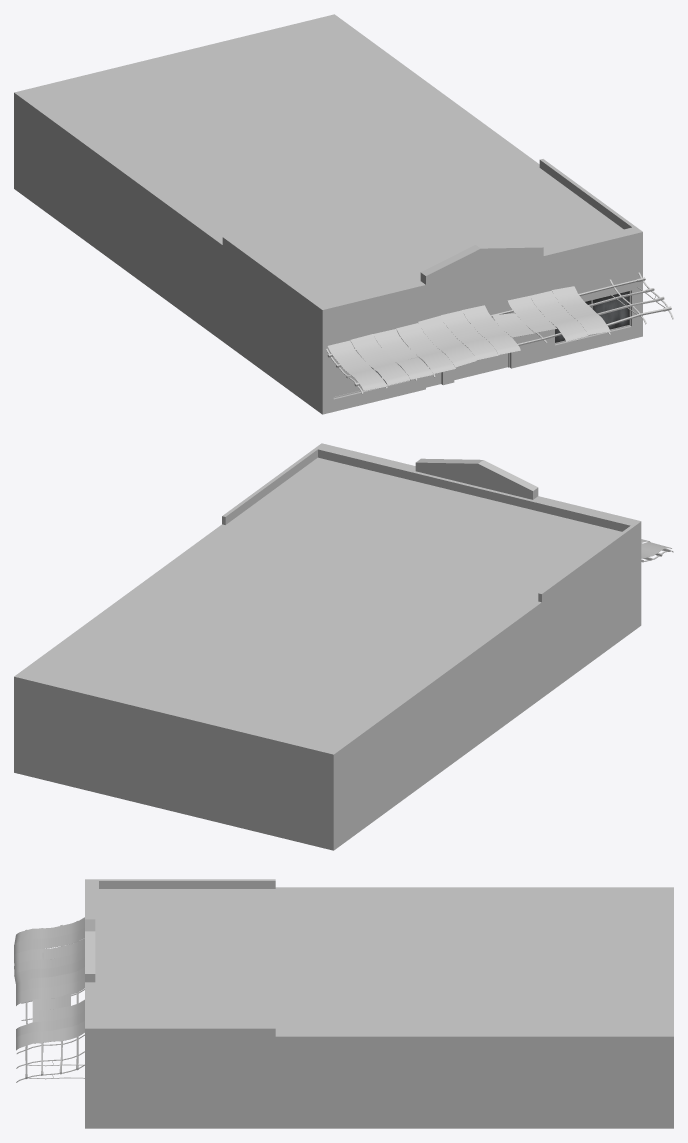
3 views of the same model, one above another, from view 1: azimuth 30°, elevation 25°; view 2: azimuth 150°, elevation 25°; view 3: azimuth 270°, elevation 25° (orthographic). The views are drawn at different scales.
Visible parts, largest first — view 1: House_05, House_05_metal_roofing, House_05_Window_Glass; view 2: House_05; view 3: House_05, House_05_metal_roofing.
Boxes of the visible parts, <box> form: House_05: <box>14,14,642,414</box>; House_05_metal_roofing: <box>326,272,673,393</box>; House_05_Window_Glass: <box>371,291,629,383</box>; House_05: <box>14,443,641,850</box>; House_05: <box>85,879,673,1128</box>; House_05_metal_roofing: <box>14,917,84,1082</box>.
Bounding box in the file's own units: 2100 × 798 × 3922.
